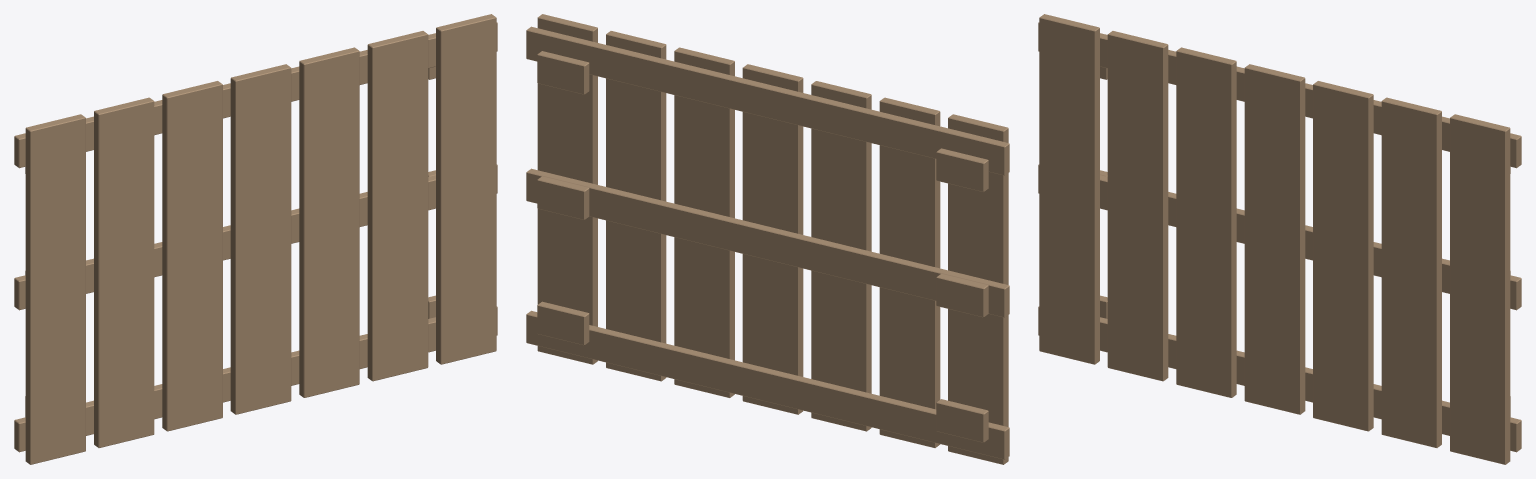
File: Hall_PalletWood.glb
3 renders of one model, left to right at view 1: azimuth 30°, elevation 25°; view 2: azimuth 150°, elevation 25°; view 3: azimuth 330°, elevation 25°, orthographic.
Parts seen in each view (by area): view 1: GEO-Hall_PalletWood; view 2: GEO-Hall_PalletWood; view 3: GEO-Hall_PalletWood.
Part boxes in pixels (bbox=[...]): GEO-Hall_PalletWood: bbox=[14, 14, 497, 464]; GEO-Hall_PalletWood: bbox=[526, 14, 1009, 464]; GEO-Hall_PalletWood: bbox=[1038, 14, 1521, 464].
Size of the model in its own units: 1.2 by 0.8 by 0.066.
